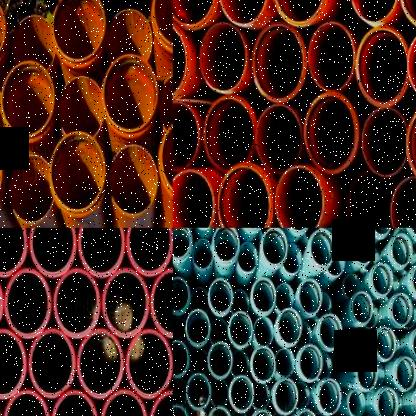pipe: (49, 131, 106, 212), (102, 54, 158, 133), (252, 21, 306, 102), (304, 93, 358, 173), (0, 60, 56, 137), (356, 30, 410, 107), (203, 95, 255, 170), (218, 163, 273, 228), (108, 145, 158, 215), (199, 21, 247, 92), (4, 268, 52, 339), (27, 329, 76, 398), (255, 104, 303, 174), (76, 328, 124, 398), (53, 268, 101, 338), (51, 0, 106, 61), (125, 329, 173, 398), (102, 268, 149, 338), (308, 21, 353, 92), (362, 108, 408, 176), (9, 153, 53, 223), (274, 166, 322, 228), (58, 77, 104, 137), (348, 169, 393, 228), (12, 15, 56, 71), (107, 9, 152, 63), (173, 169, 213, 228), (77, 228, 125, 277), (29, 228, 77, 277), (125, 228, 173, 276), (0, 329, 28, 400), (173, 101, 199, 171), (150, 267, 172, 338), (173, 20, 190, 101), (389, 176, 416, 227), (0, 228, 28, 276), (173, 0, 218, 29), (50, 389, 98, 416), (100, 389, 147, 416), (2, 389, 49, 416), (272, 0, 326, 23), (218, 0, 267, 25), (350, 0, 398, 22), (185, 372, 212, 410), (160, 117, 172, 200), (207, 341, 233, 379), (212, 228, 240, 262), (153, 0, 173, 47), (230, 375, 254, 413), (262, 228, 287, 264), (229, 310, 253, 347), (311, 229, 335, 266), (158, 71, 173, 130), (300, 344, 324, 380), (278, 308, 302, 344), (252, 276, 275, 313), (406, 102, 416, 186), (252, 346, 276, 381), (318, 378, 341, 414), (186, 309, 209, 345), (274, 378, 298, 412), (209, 278, 233, 312), (320, 314, 343, 349), (300, 278, 322, 314), (357, 356, 378, 390), (352, 232, 374, 264), (396, 356, 416, 390), (376, 326, 396, 360), (352, 292, 373, 324), (372, 263, 393, 295), (392, 233, 412, 266), (407, 28, 416, 101), (392, 292, 412, 324), (149, 389, 172, 416), (192, 238, 212, 269), (378, 387, 398, 416), (254, 317, 274, 346), (238, 243, 258, 272), (275, 282, 294, 312), (275, 348, 295, 376), (283, 243, 301, 274), (327, 246, 345, 276), (173, 340, 188, 375), (173, 278, 188, 312), (189, 348, 208, 374), (315, 291, 332, 320), (173, 228, 190, 257), (347, 389, 365, 416), (211, 379, 228, 407), (348, 333, 366, 359), (190, 287, 208, 313), (343, 273, 361, 299), (210, 318, 228, 343), (295, 321, 311, 349), (232, 350, 249, 376), (231, 290, 249, 314), (253, 383, 270, 408), (399, 0, 415, 26), (294, 382, 310, 408), (173, 317, 187, 342), (173, 378, 186, 404), (366, 303, 378, 329), (207, 406, 232, 416), (305, 228, 323, 240), (250, 408, 275, 416), (173, 404, 189, 416), (411, 327, 416, 360), (411, 263, 416, 296), (371, 228, 393, 235), (295, 410, 318, 416), (189, 409, 208, 416), (260, 228, 280, 234), (230, 411, 247, 416), (272, 412, 289, 416), (316, 412, 329, 416)
